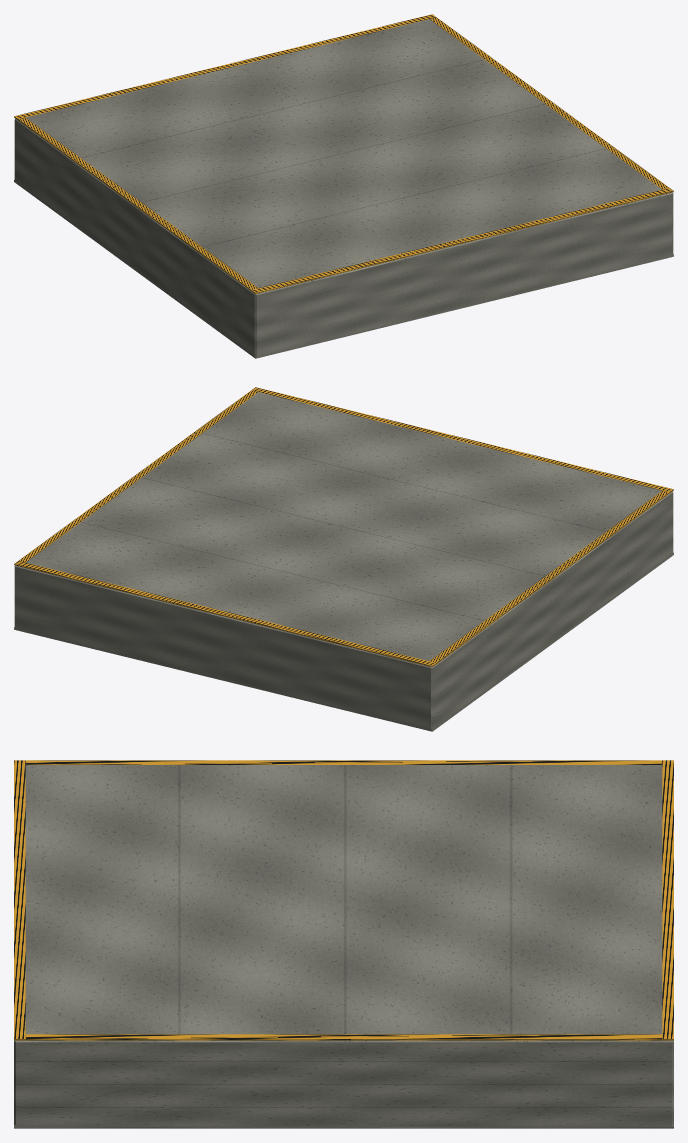
File: platform.glb
The picture shows the model from 3 angles, top to bottom: view 1: azimuth 30°, elevation 25°; view 2: azimuth 150°, elevation 25°; view 3: azimuth 270°, elevation 25°; orthographic projection. The views are drawn at different scales.
Parts seen in each view (by area): view 1: platform; view 2: platform; view 3: platform.
Boxes of the visible parts, left/top/right/bottom form: platform: left=14, top=14, right=673, bottom=358; platform: left=14, top=387, right=673, bottom=731; platform: left=14, top=760, right=673, bottom=1128.
Bounding box in the file's own units: 8 × 1.2 × 8.
Materials: 1 (1 with a texture image).
